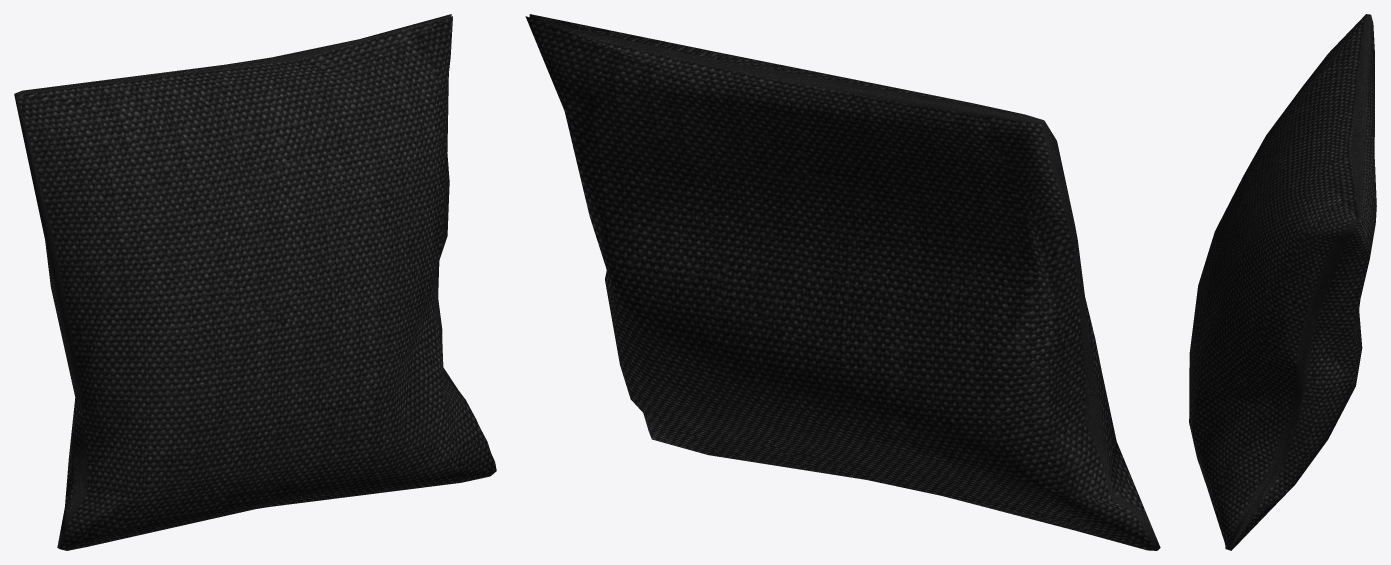
File: Pillow.FBX
3 renders of one model, left to right at view 1: azimuth 30°, elevation 25°; view 2: azimuth 150°, elevation 25°; view 3: azimuth 270°, elevation 25°, orthographic. The views are drawn at different scales.
Parts seen in each view (by area): view 1: Pillow; view 2: Pillow; view 3: Pillow.
Boxes of the visible parts, x1,y1,x2,y2 form: Pillow: (14, 14, 496, 550); Pillow: (525, 14, 1160, 550); Pillow: (1189, 14, 1376, 550).
Bounding box in the file's own units: 52.46 × 45.92 × 21.25.
1 material, 1 textured.
